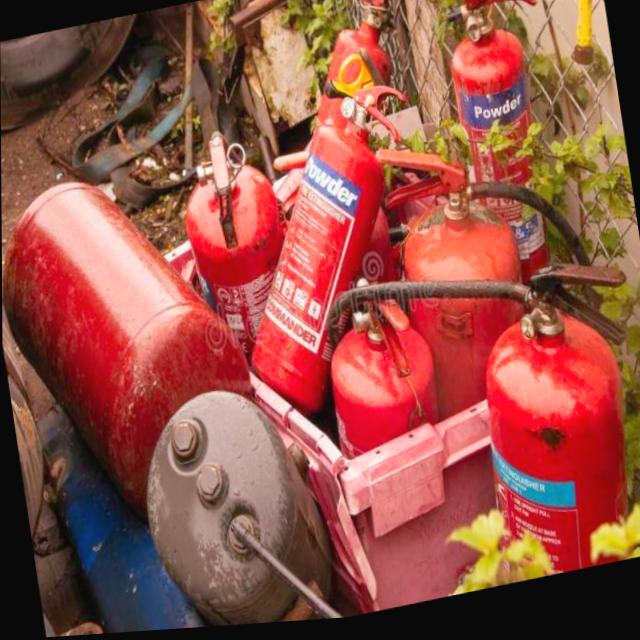FireExtinguisher: (312, 228, 640, 621), (1, 137, 296, 562), (362, 101, 625, 560), (205, 39, 463, 423), (227, 0, 451, 360), (166, 101, 362, 485), (305, 256, 470, 618), (426, 0, 590, 339)
